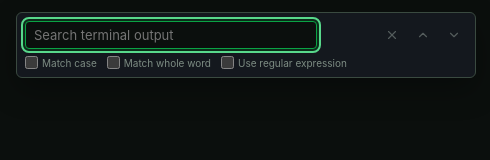
TerminalSearchOverlay › shows an explicit capped-match state
Type "common" into the search field labelled "Search terminal output" at (171, 35), box [25, 21, 317, 49]
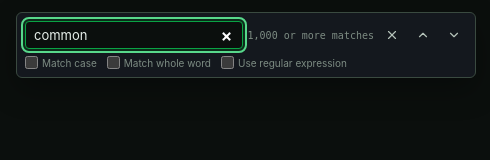
Check: the text "1,000 or more matches" is shown, box [248, 30, 374, 40]
